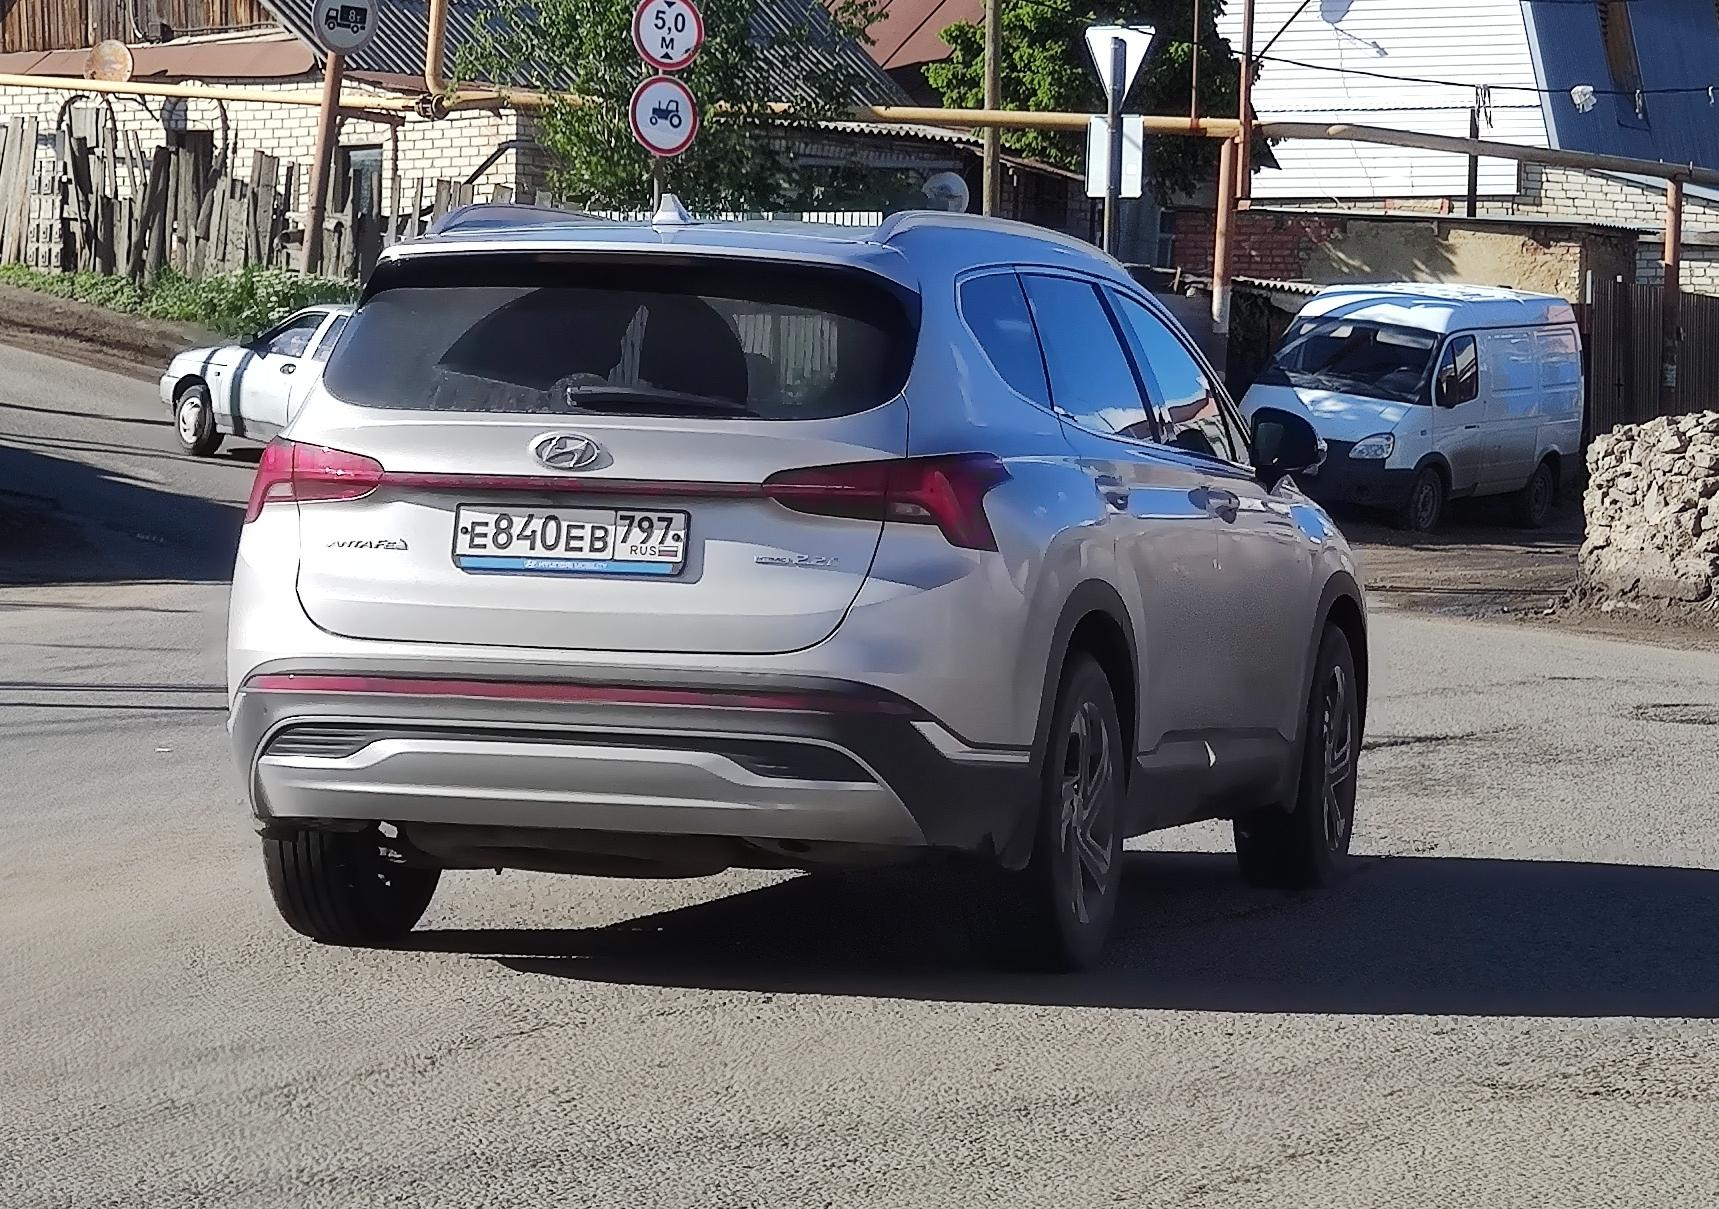license-plateSW: (460, 511, 689, 563)
